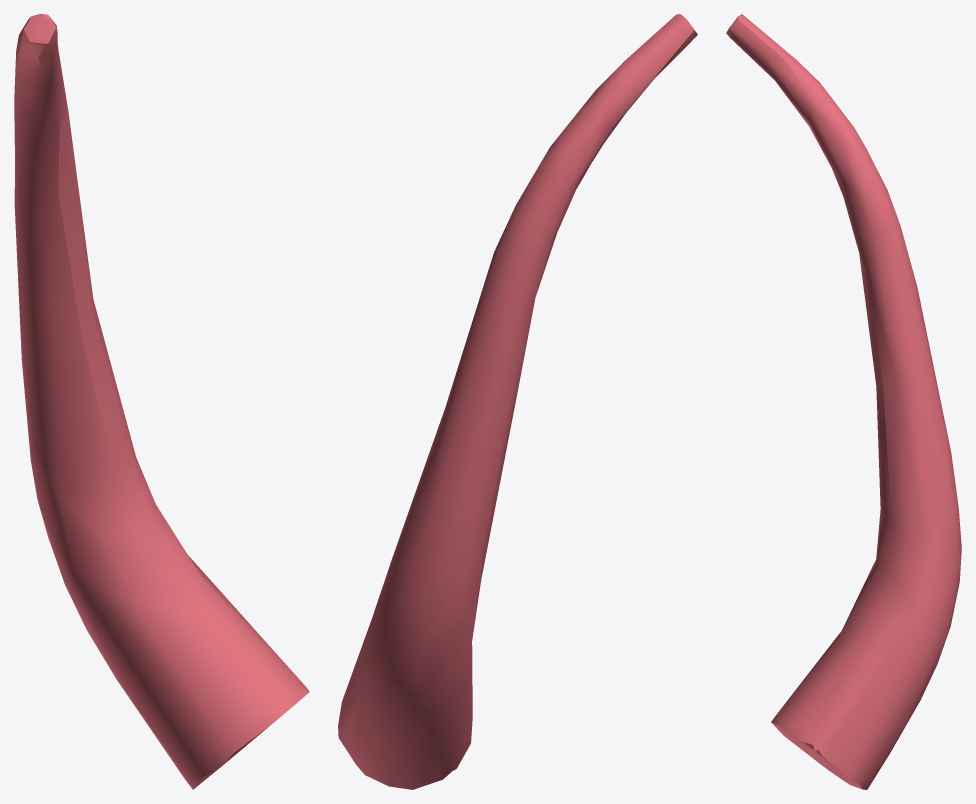
The model's file is fma68662_fj2967.glb.
3 renders of one model, left to right at view 1: azimuth 30°, elevation 25°; view 2: azimuth 150°, elevation 25°; view 3: azimuth 270°, elevation 25°, orthographic. The views are drawn at different scales.
Visible parts, largest first — view 1: FMA68662_FJ2967; view 2: FMA68662_FJ2967; view 3: FMA68662_FJ2967.
Boxes of the visible parts, box(x1,y1,x2,y2) form: FMA68662_FJ2967: box(14, 14, 309, 789); FMA68662_FJ2967: box(338, 14, 697, 789); FMA68662_FJ2967: box(726, 14, 961, 789).
Size of the model in its own units: 0.0226 by 0.0564 by 0.0177.
